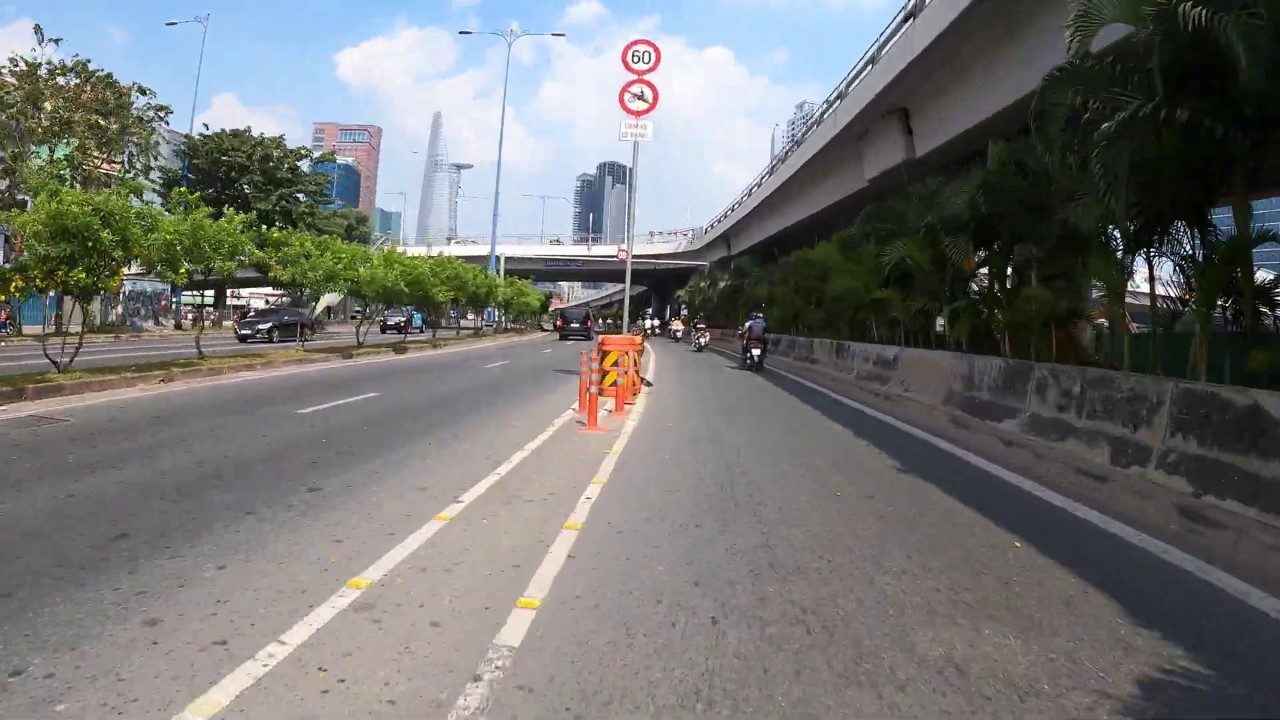gioi_han_60km: (621, 38, 661, 76)
